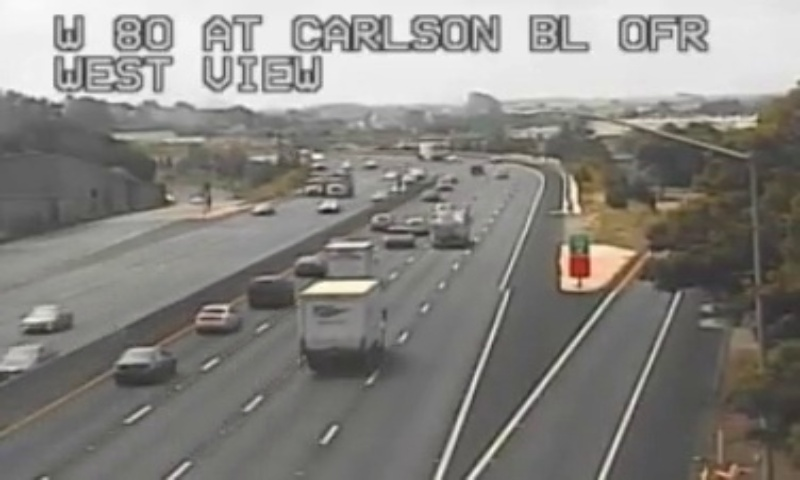car: (112, 346, 174, 384), (193, 303, 236, 332), (246, 276, 289, 304), (293, 256, 323, 276)
small-truck: (297, 279, 382, 364), (323, 241, 372, 276)
